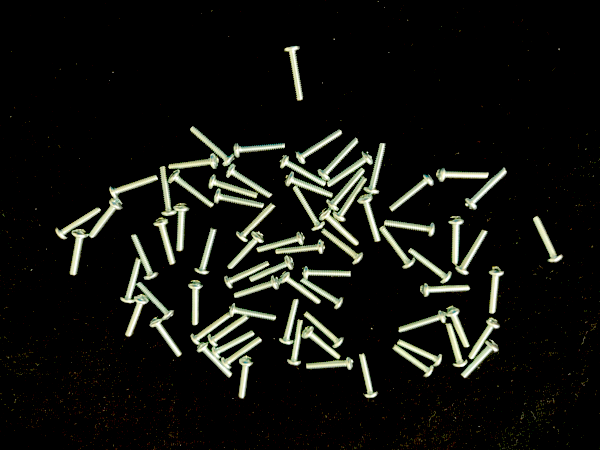longscrew: (463, 167, 509, 212), (387, 172, 436, 214), (167, 169, 216, 211), (188, 126, 237, 167), (317, 136, 360, 181), (326, 151, 374, 190), (454, 228, 491, 278), (294, 129, 344, 166), (226, 163, 276, 200), (235, 202, 278, 244), (326, 168, 366, 213), (333, 175, 369, 224), (407, 248, 454, 285), (55, 206, 103, 242), (318, 208, 361, 248), (379, 224, 416, 270), (531, 214, 565, 264), (278, 154, 328, 188), (460, 339, 500, 380), (226, 231, 266, 272), (136, 281, 177, 321), (302, 311, 345, 349), (88, 196, 125, 240), (320, 229, 365, 265), (299, 277, 346, 311), (292, 185, 326, 232), (391, 343, 435, 379), (190, 310, 234, 346), (130, 232, 161, 283), (197, 340, 235, 380), (283, 171, 335, 200), (108, 172, 160, 201), (279, 271, 322, 306), (149, 316, 184, 359), (467, 317, 501, 361), (302, 325, 343, 361), (221, 336, 264, 370), (207, 173, 259, 201), (223, 259, 271, 289), (283, 41, 306, 102), (396, 339, 444, 368), (356, 193, 383, 244), (207, 315, 250, 347), (249, 256, 296, 285), (396, 309, 448, 335), (193, 225, 220, 275), (211, 330, 257, 359), (152, 217, 178, 268), (364, 141, 388, 196), (156, 165, 179, 219), (232, 275, 281, 300), (444, 304, 471, 349), (124, 294, 151, 339), (256, 231, 306, 255), (232, 138, 288, 159), (213, 188, 266, 210), (119, 257, 143, 305), (445, 323, 470, 369), (68, 227, 90, 278), (435, 163, 491, 183), (357, 351, 380, 399), (278, 297, 300, 347), (228, 302, 278, 323), (173, 200, 192, 255), (285, 318, 306, 367), (384, 218, 437, 237), (167, 153, 220, 172), (447, 214, 466, 266), (274, 239, 327, 257), (487, 266, 506, 316), (187, 278, 206, 327), (419, 281, 472, 298), (237, 354, 256, 400), (305, 355, 355, 372), (301, 265, 354, 280)
